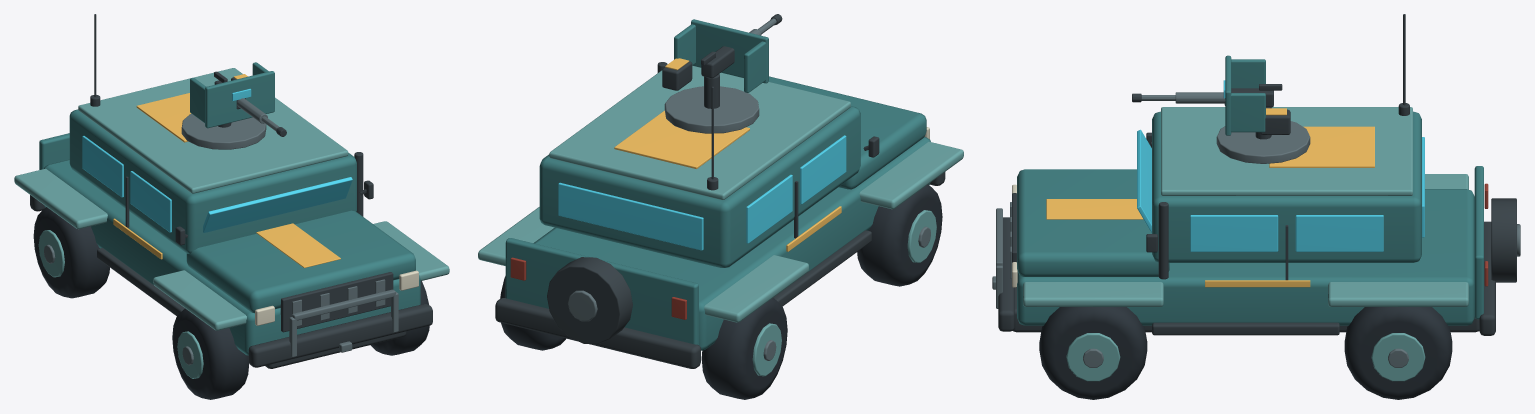
The model's file is meridian-combat-buggy.glb.
3 views of the same model, side by side, from view 1: azimuth 30°, elevation 25°; view 2: azimuth 150°, elevation 25°; view 3: azimuth 270°, elevation 25° (orthographic). The views are drawn at different scales.
Parts seen in each view (by area): view 1: BuggyBodyMesh, TurretMesh, WheelFrontLeftMesh, WheelRearLeftMesh, WheelFrontRightMesh, BarrelMesh; view 2: BuggyBodyMesh, TurretMesh, WheelRearLeftMesh, WheelFrontLeftMesh, WheelRearRightMesh, BarrelMesh; view 3: BuggyBodyMesh, WheelFrontRightMesh, WheelRearRightMesh, TurretMesh, BarrelMesh.
Part boxes in pixels (<box>): BuggyBodyMesh: <box>14,14,449,368</box>; TurretMesh: <box>181,62,274,149</box>; WheelFrontLeftMesh: <box>172,308,249,399</box>; WheelRearLeftMesh: <box>33,207,109,298</box>; WheelFrontRightMesh: <box>370,281,429,355</box>; BarrelMesh: <box>214,71,286,136</box>; BuggyBodyMesh: <box>478,62,963,368</box>; TurretMesh: <box>662,19,768,133</box>; WheelRearLeftMesh: <box>701,298,787,399</box>; WheelFrontLeftMesh: <box>857,184,942,286</box>; WheelRearRightMesh: <box>500,276,565,350</box>; BarrelMesh: <box>701,14,782,78</box>; BuggyBodyMesh: <box>992,14,1520,335</box>; WheelFrontRightMesh: <box>1039,307,1147,399</box>; WheelRearRightMesh: <box>1344,307,1452,399</box>; TurretMesh: <box>1216,55,1310,163</box>; BarrelMesh: <box>1132,84,1282,107</box>.
Bounding box in the file's own units: 2.54 × 2.8 × 4.5.
